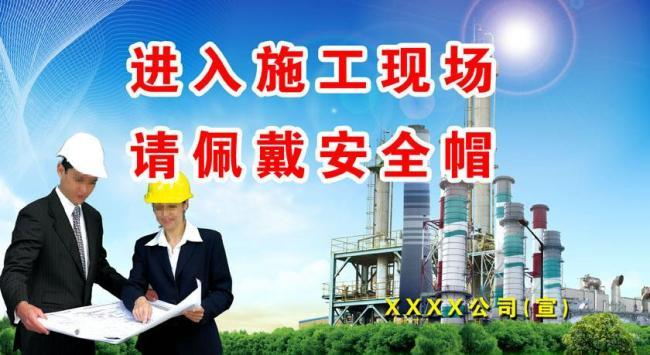helmet: (59, 136, 109, 181), (143, 175, 193, 206)
